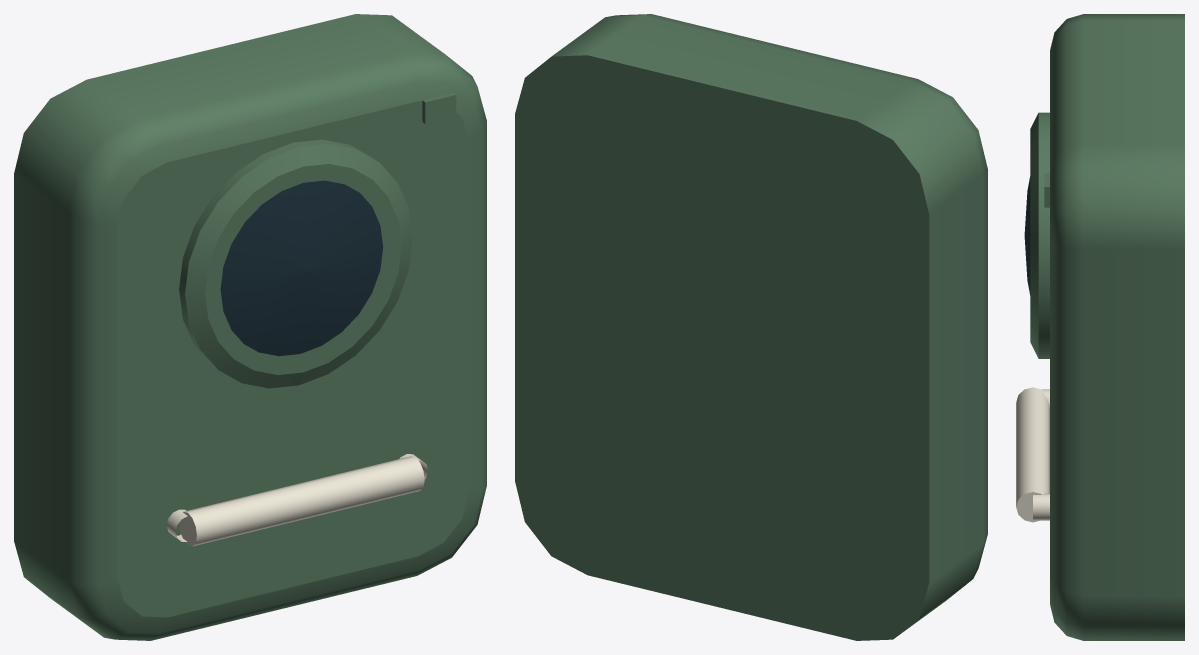
File: t10_water.obj
3 views of the same model, side by side, from view 1: azimuth 30°, elevation 25°; view 2: azimuth 150°, elevation 25°; view 3: azimuth 270°, elevation 25° (orthographic). The views are drawn at different scales.
Parts seen in each view (by area): view 1: t10_water; view 2: t10_water; view 3: t10_water.
Part boxes in pixels (bbox=[...]): t10_water: bbox=[14, 14, 486, 640]; t10_water: bbox=[515, 14, 987, 640]; t10_water: bbox=[1016, 14, 1184, 640].
Bounding box in the file's own units: 0.8 × 0.96 × 0.3.
